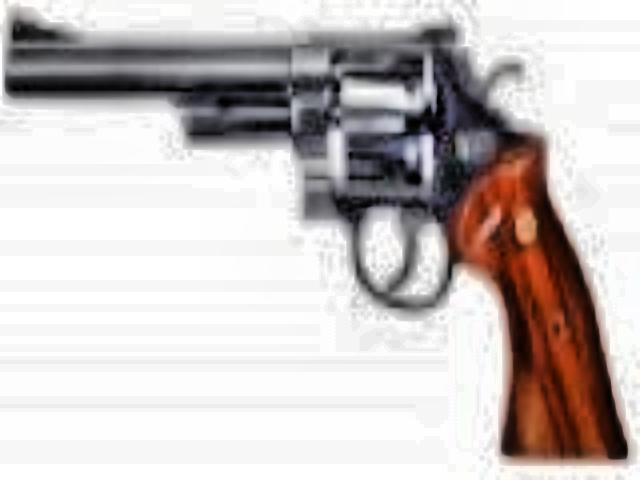pistol: (0, 12, 612, 460)
